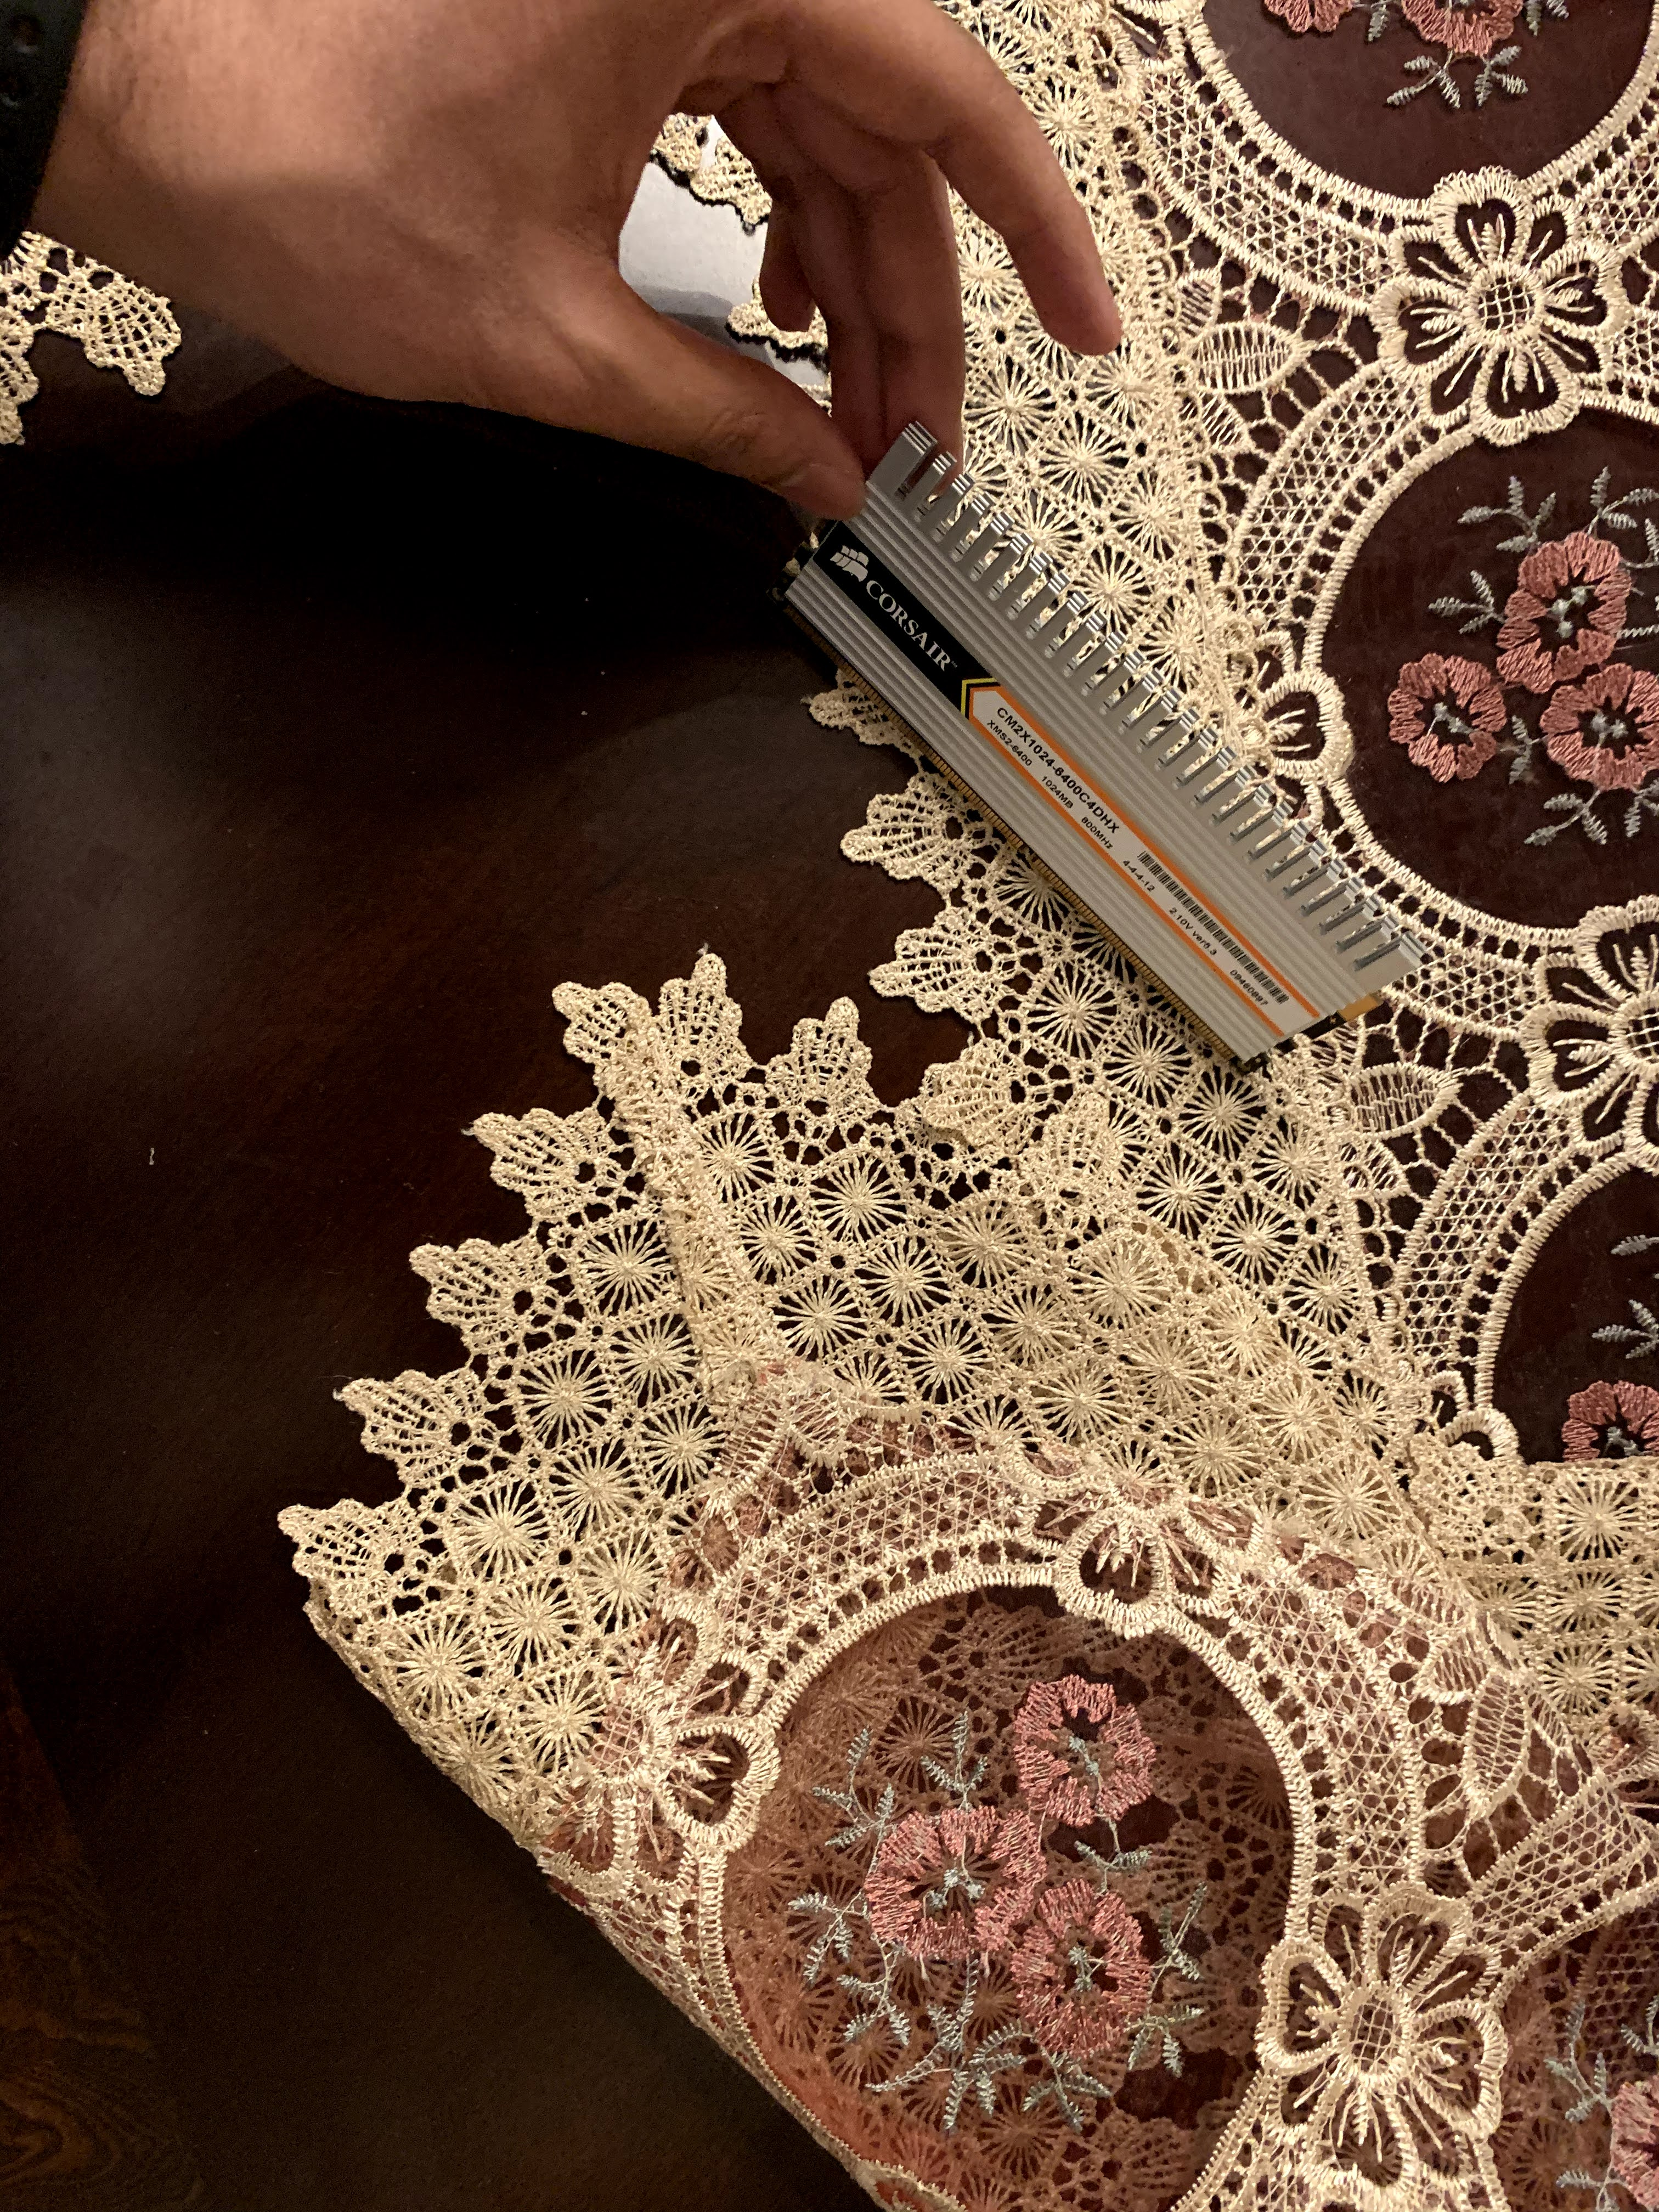Space-debris-medium: (749, 409, 1434, 1096)
